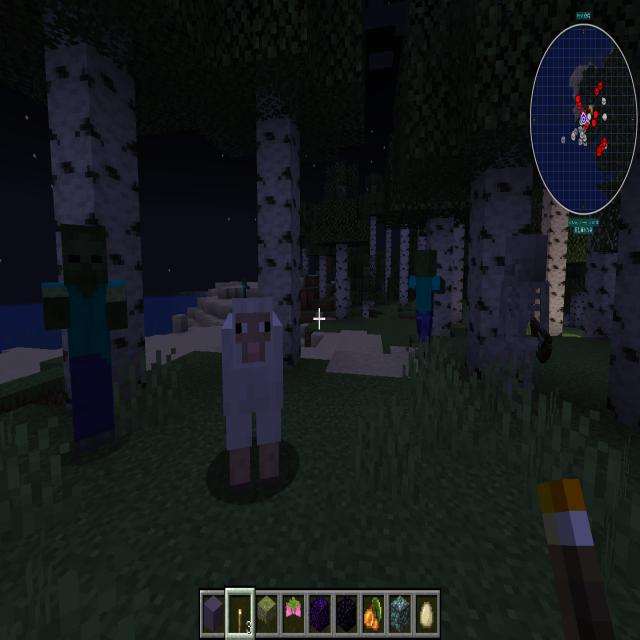Skeleton: (489, 229, 558, 449)
Zombie: (39, 217, 138, 469), (402, 236, 449, 361), (239, 271, 252, 307)
